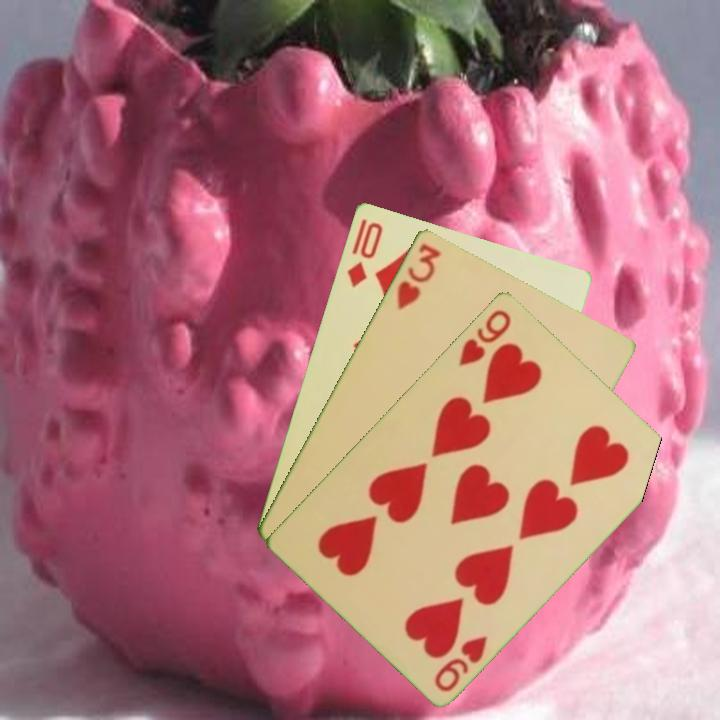10d: (343, 215, 386, 290)
3h: (393, 239, 444, 313)
9h: (430, 631, 491, 695), (455, 305, 514, 369)
